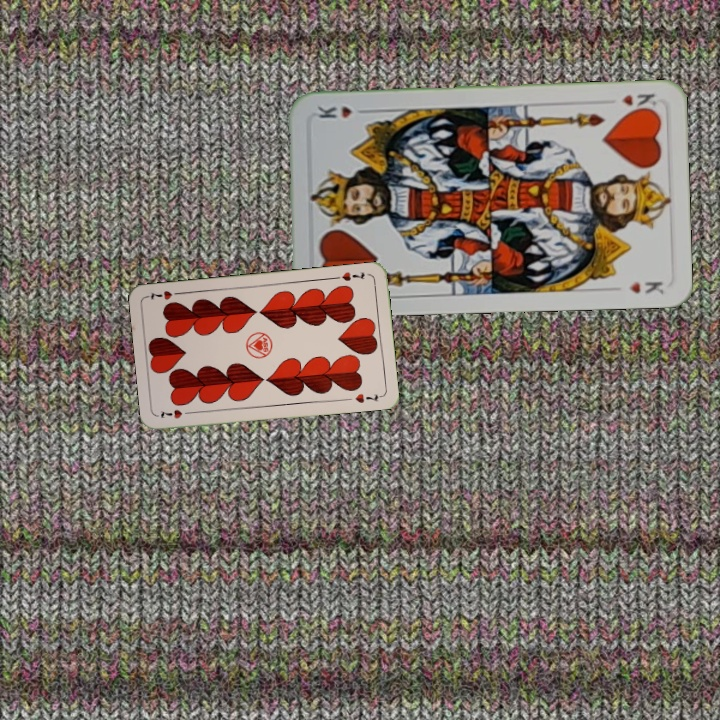H7: (155, 405, 195, 421), (331, 268, 367, 284)
HK: (618, 90, 659, 114)
